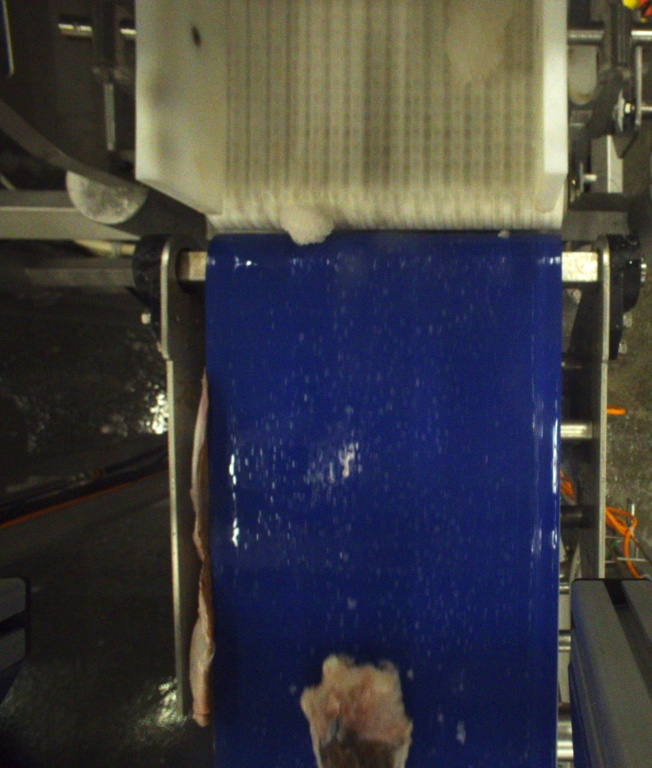ANF: (300, 651, 413, 768)
